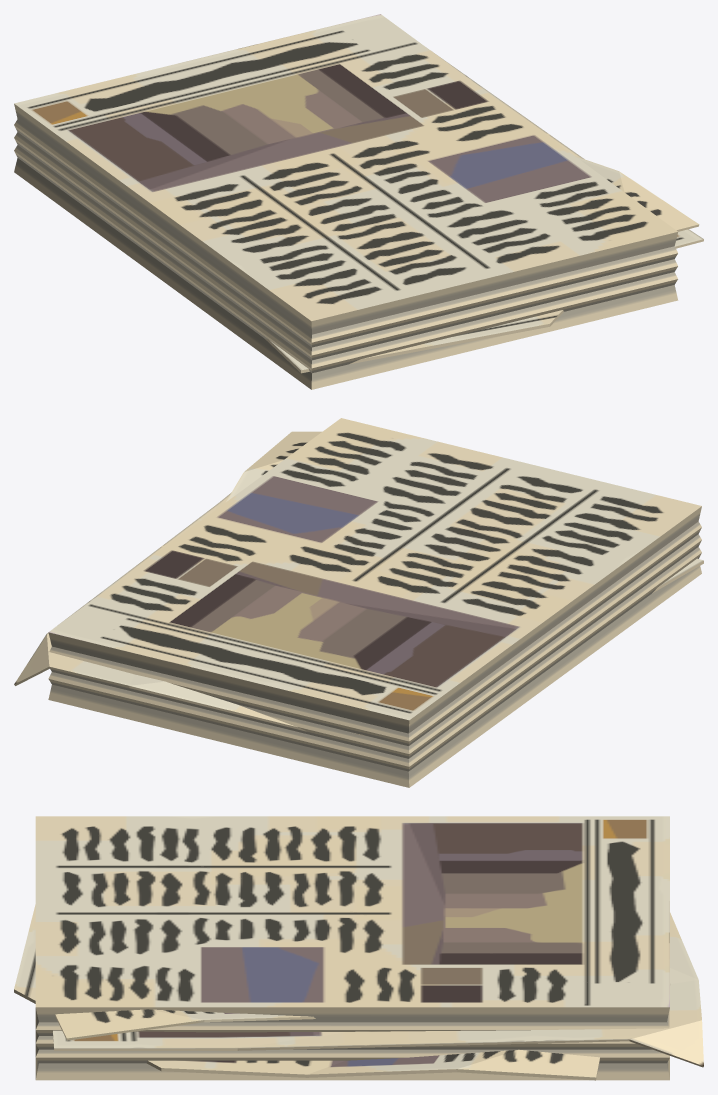
The model's file is SM_Prop_Junk_Paper_12.fbx.
The picture shows the model from 3 angles, top to bottom: view 1: azimuth 30°, elevation 25°; view 2: azimuth 150°, elevation 25°; view 3: azimuth 270°, elevation 25°; orthographic projection. The views are drawn at different scales.
Parts seen in each view (by area): view 1: SM_Prop_Junk_Paper_12; view 2: SM_Prop_Junk_Paper_12; view 3: SM_Prop_Junk_Paper_12.
Part boxes in pixels (x1,y1,x2,y2): SM_Prop_Junk_Paper_12: (14, 14, 703, 389); SM_Prop_Junk_Paper_12: (14, 418, 703, 787); SM_Prop_Junk_Paper_12: (14, 816, 703, 1080).
Bounding box in the file's own units: 45.75 × 7.35 × 62.75.
